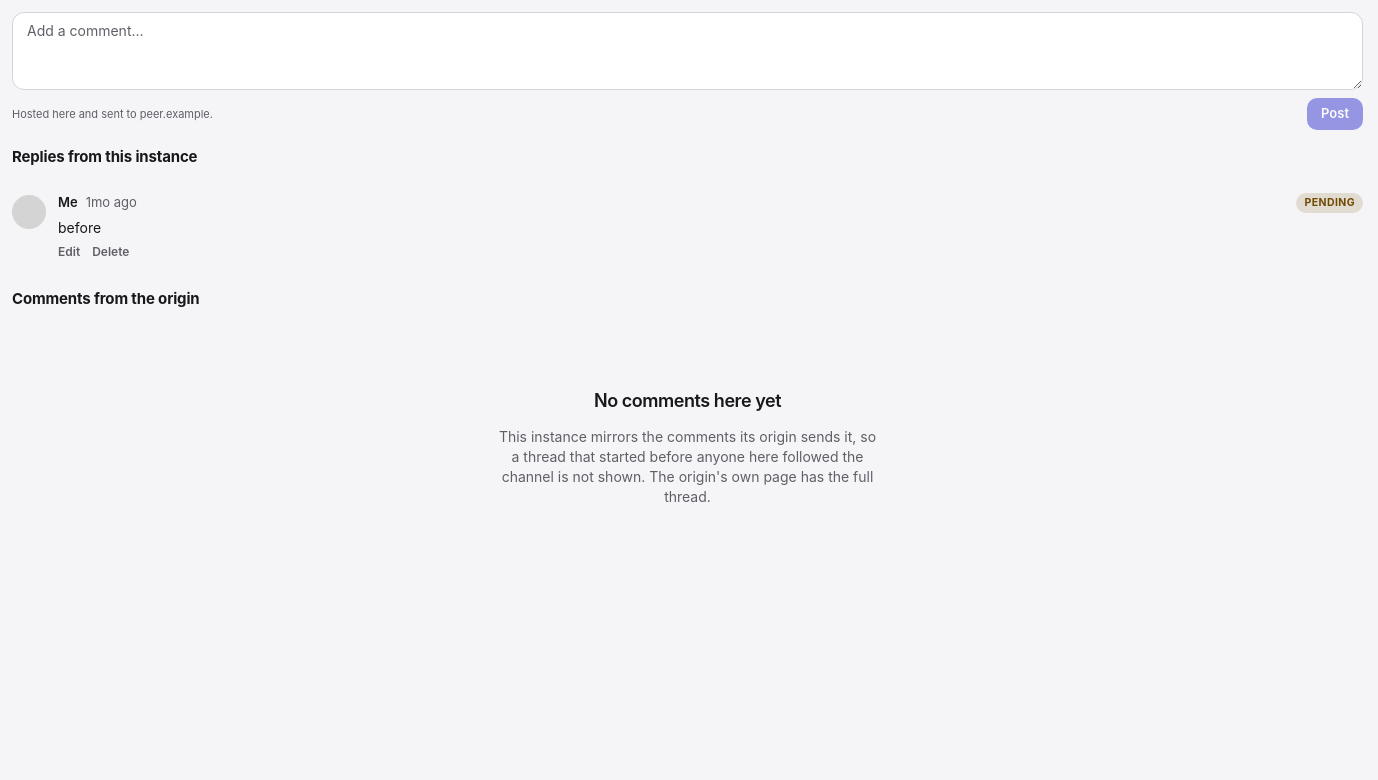
RemoteVideoComments — edit & delete › lets the author edit their own authored comment
Click the button "Edit" at (69, 252), box [58,244,80,260]
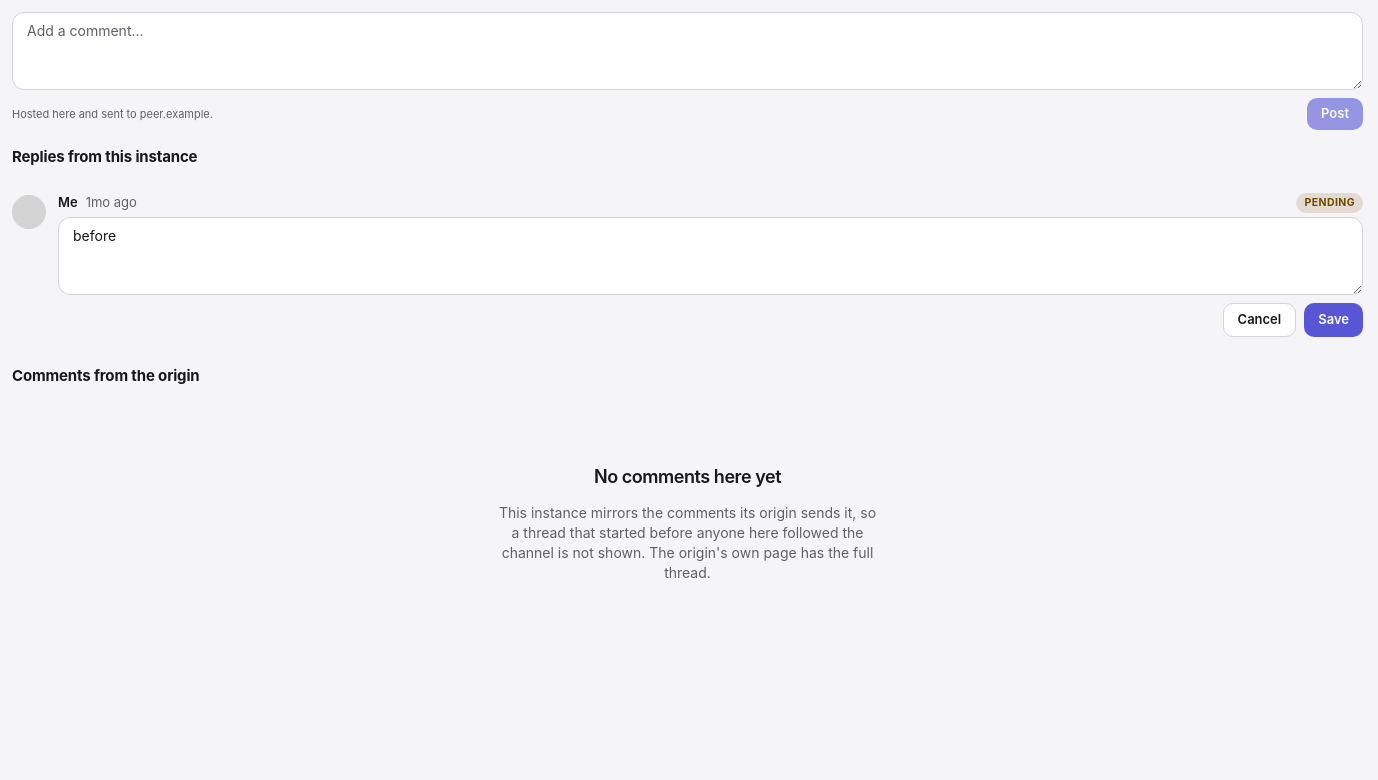
Replace the text in the text box named "Edit comment" with "after" at (710, 256), box [58,217,1363,295]
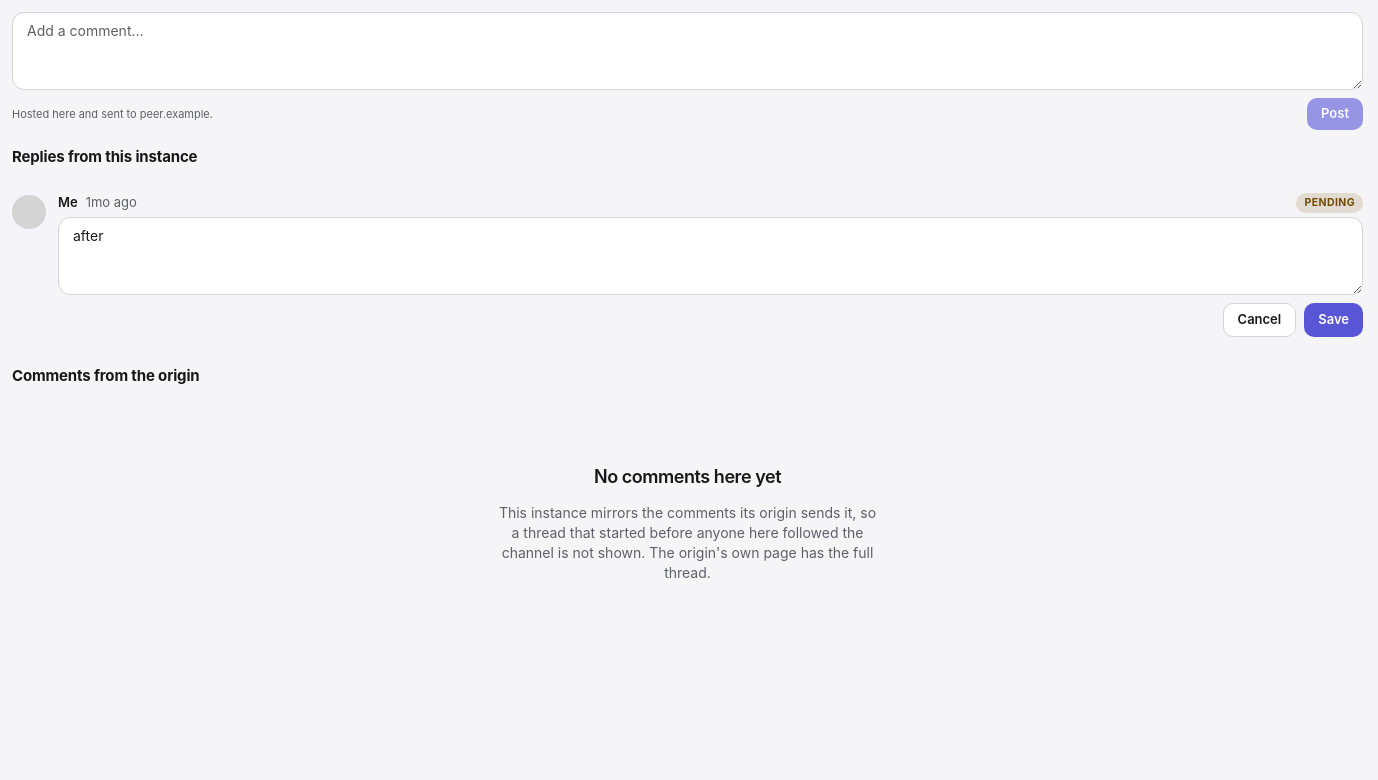
Click the button "Save" at (1334, 320), box [1304,303,1363,337]
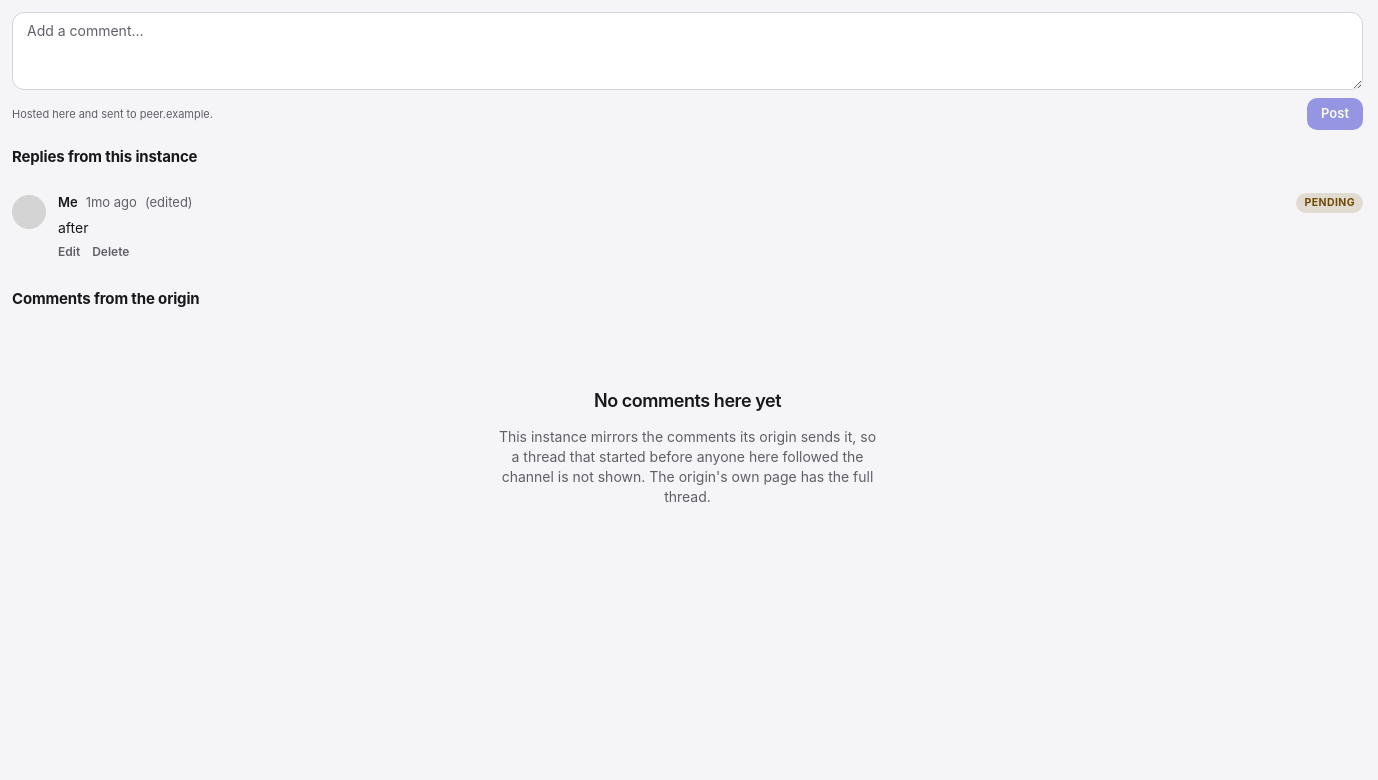
expect the text "after" is shown: met, box [58,219,88,236]
